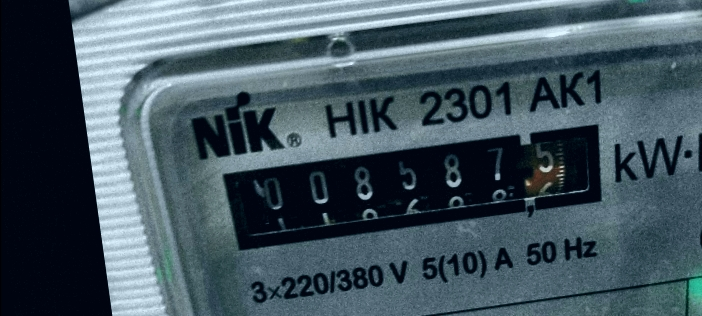0: (304, 164, 333, 207)
1: (258, 171, 288, 215)
5: (531, 134, 560, 177), (394, 153, 422, 194)
7: (482, 142, 511, 186)
8: (348, 160, 378, 204), (439, 148, 465, 192)
screen: (200, 99, 631, 275)
